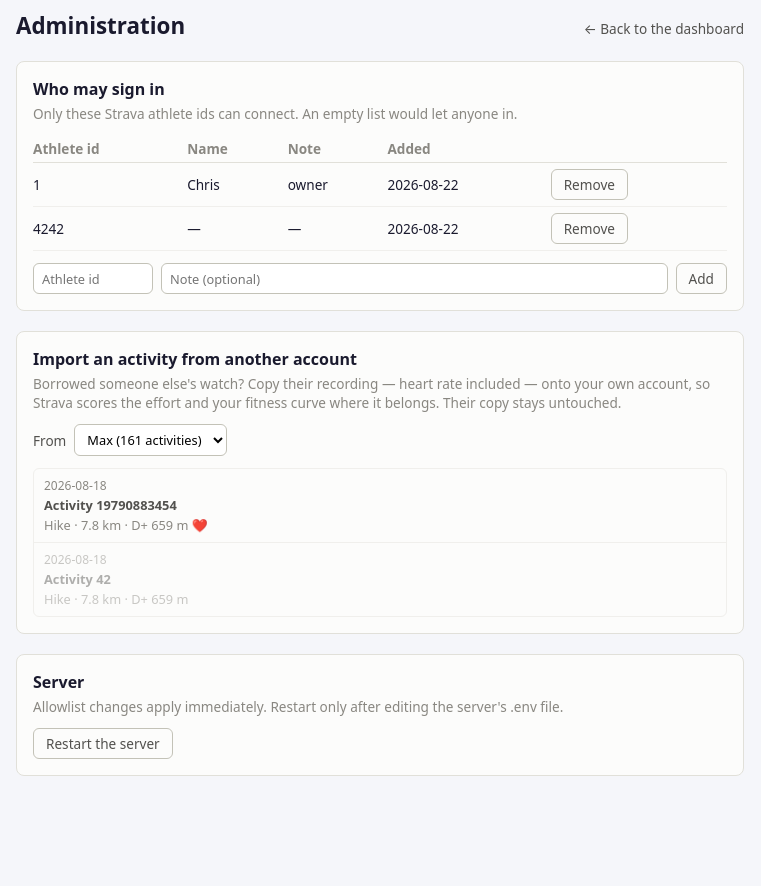
Scenario: AdminPage › activity import › shows why Strava refused the upload
Click the button "2026-08-18 Activity 19790883454 Hike · 7.8 km · D+ 659 m ❤️": coordinates (75, 486) x1=34 y1=469 x2=726 y2=542
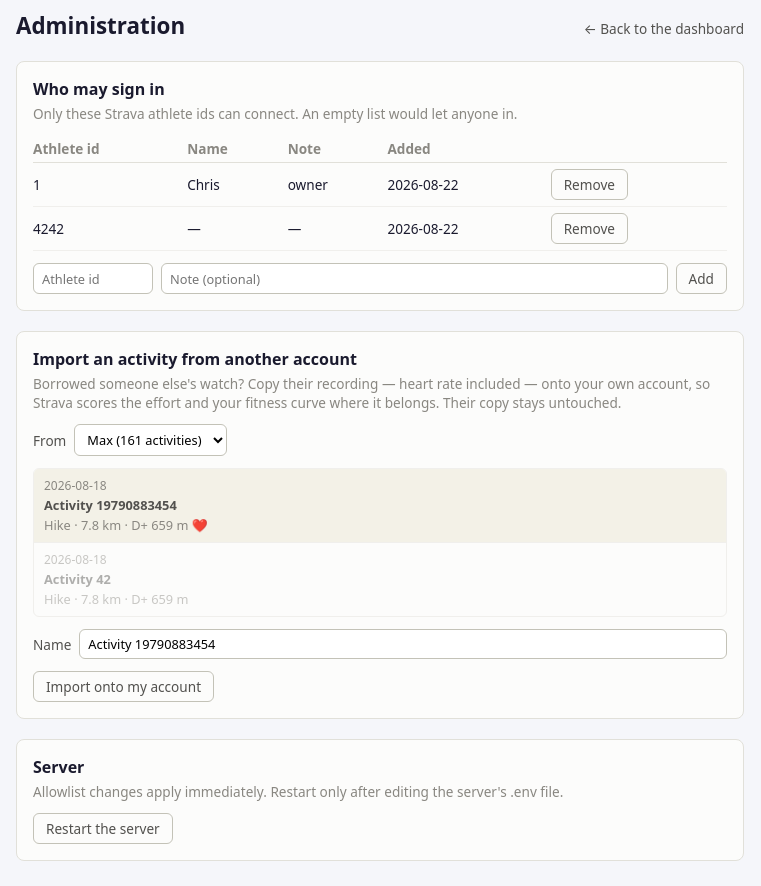
Click the button with class "import": coordinates (124, 686) x1=33 y1=671 x2=214 y2=702
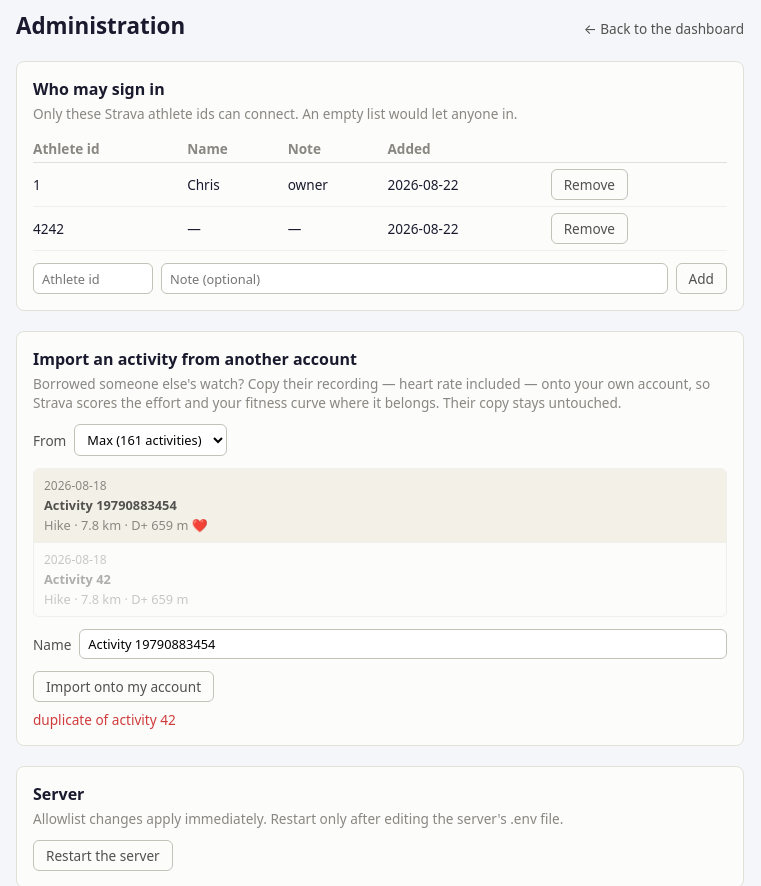
Now the text "duplicate of activity 42" is shown, box x1=33 y1=710 x2=176 y2=729
